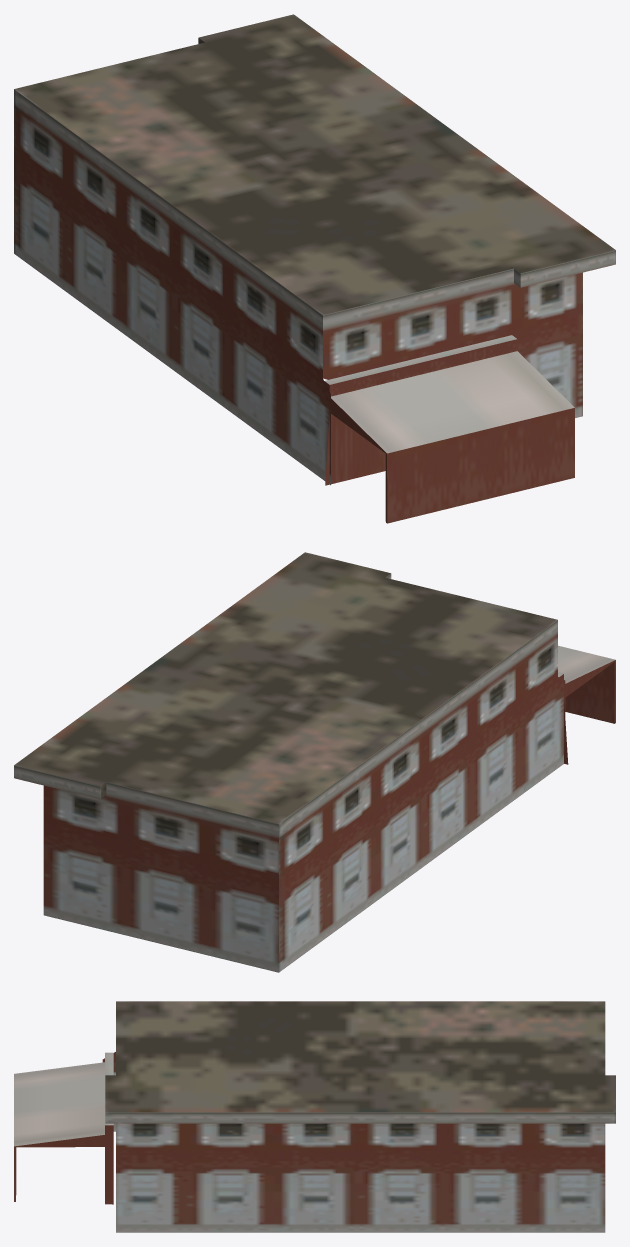
The model's file is lodcem02.obj.
The picture shows the model from 3 angles, top to bottom: view 1: azimuth 30°, elevation 25°; view 2: azimuth 150°, elevation 25°; view 3: azimuth 270°, elevation 25°; orthographic projection. The views are drawn at different scales.
Parts seen in each view (by area): view 1: LODcem02; view 2: LODcem02; view 3: LODcem02.
Part boxes in pixels (bbox=[...]): LODcem02: bbox=[14, 14, 615, 523]; LODcem02: bbox=[14, 552, 615, 972]; LODcem02: bbox=[14, 1001, 615, 1232].
Bounding box in the file's own units: 12.61 × 6.81 × 28.51.
1 material, 1 textured.
